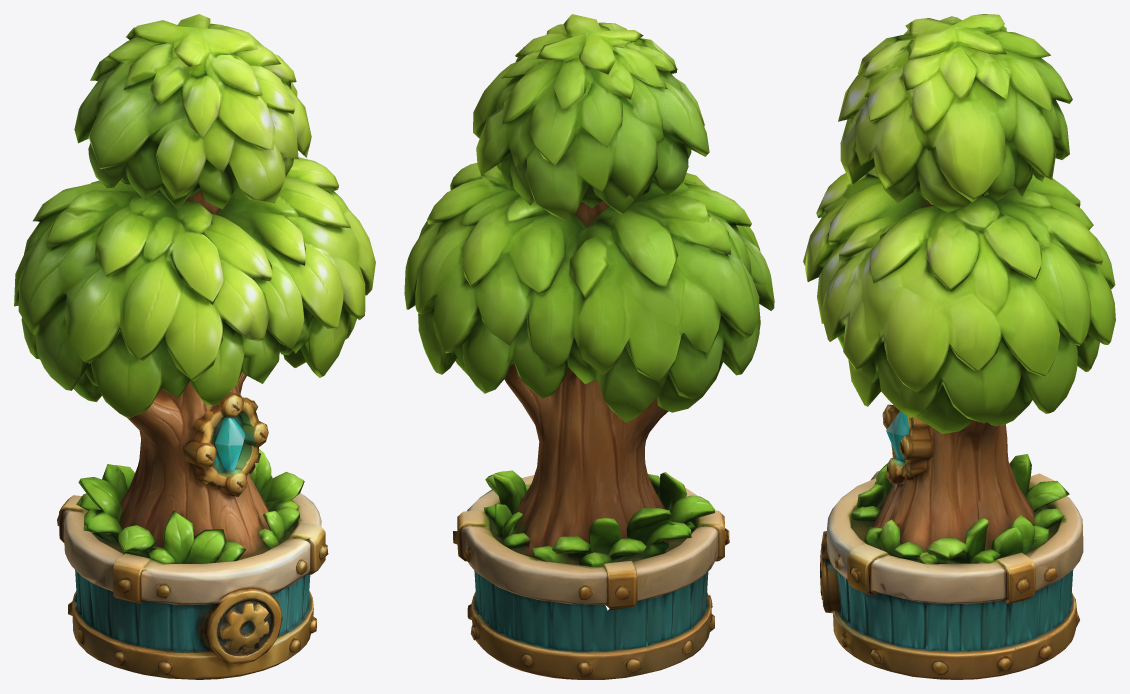
The model's file is X_TreeB_fixed.glb.
3 views of the same model, side by side, from view 1: azimuth 30°, elevation 25°; view 2: azimuth 150°, elevation 25°; view 3: azimuth 270°, elevation 25° (orthographic).
Visible parts, largest first — view 1: tripo_node_4be3fbe6-2a95-4236-97c9-b9465bd23749; view 2: tripo_node_4be3fbe6-2a95-4236-97c9-b9465bd23749; view 3: tripo_node_4be3fbe6-2a95-4236-97c9-b9465bd23749.
Boxes of the visible parts, x1,y1,x2,y2 form: tripo_node_4be3fbe6-2a95-4236-97c9-b9465bd23749: (14,14,375,679); tripo_node_4be3fbe6-2a95-4236-97c9-b9465bd23749: (404,14,774,679); tripo_node_4be3fbe6-2a95-4236-97c9-b9465bd23749: (803,14,1115,679).
Bounding box in the file's own units: 0.5586 × 0.9791 × 0.4582.
Materials: 1 (1 with a texture image).
